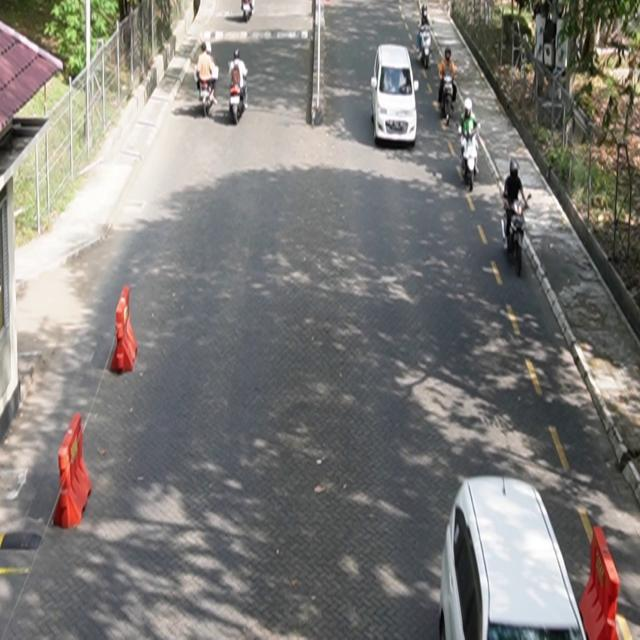car: (371, 44, 420, 147)
